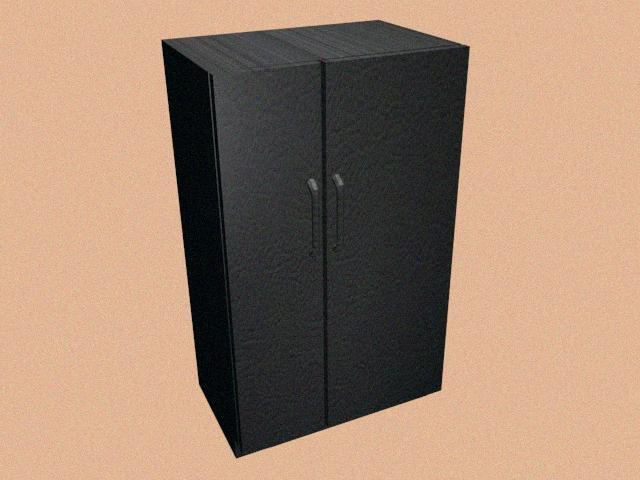cabinet_door: (326, 55, 456, 408), (228, 70, 323, 441)
handle: (299, 167, 325, 273), (330, 168, 351, 264)
